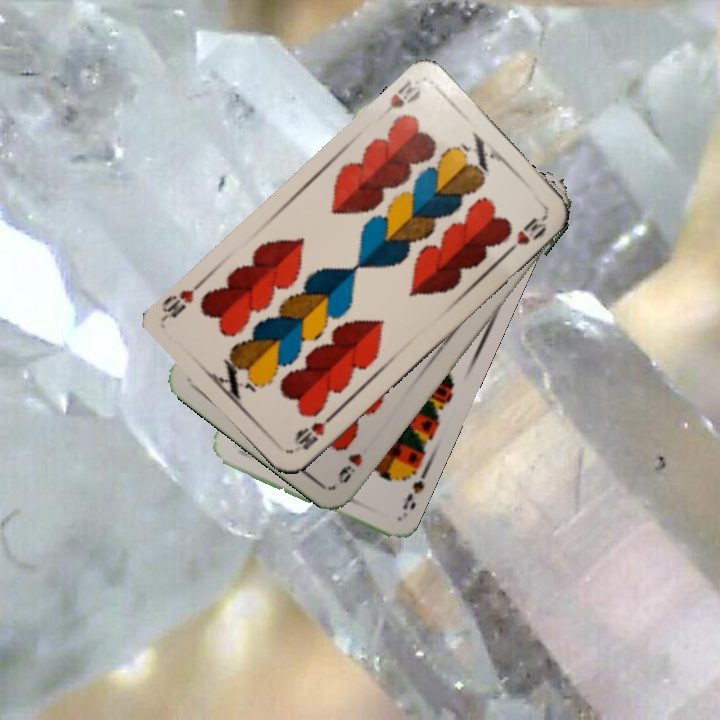H10: (375, 75, 424, 121), (290, 410, 337, 453)
H9: (333, 449, 365, 487)
S9: (398, 460, 432, 513)
